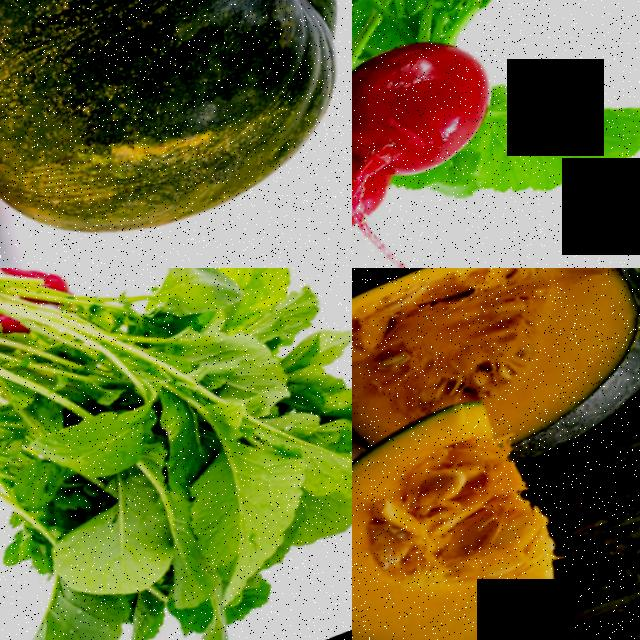pumpkin: (0, 0, 352, 268), (352, 386, 587, 640), (352, 268, 640, 459), (496, 354, 640, 640)
radishes: (352, 0, 553, 268), (0, 268, 159, 473)
